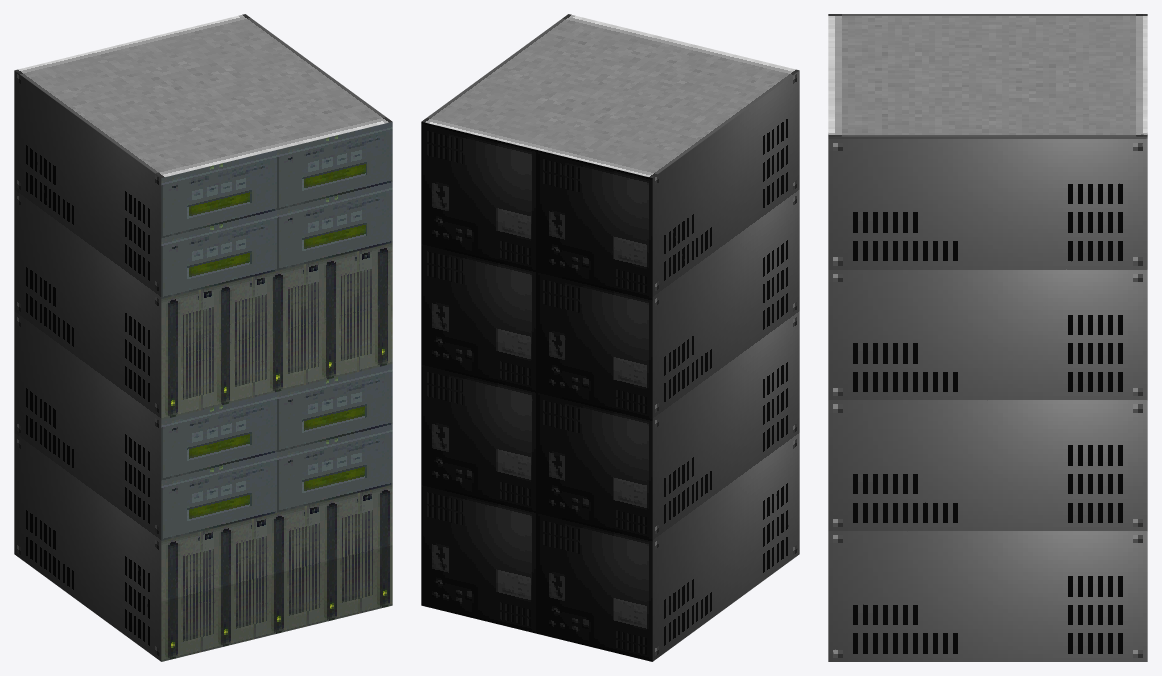
Rendered from mainframe_2.glb.
3 renders of one model, left to right at view 1: azimuth 30°, elevation 25°; view 2: azimuth 150°, elevation 25°; view 3: azimuth 270°, elevation 25°, orthographic. The views are drawn at different scales.
Parts seen in each view (by area): view 1: Object; view 2: Object; view 3: Object.
Part boxes in pixels (left/top/right/bottom): Object: left=14, top=14, right=392, bottom=661; Object: left=421, top=14, right=799, bottom=661; Object: left=828, top=14, right=1147, bottom=661.
Bounding box in the file's own units: 1.25 × 2.5 × 1.38.
9 materials, 9 textured.
